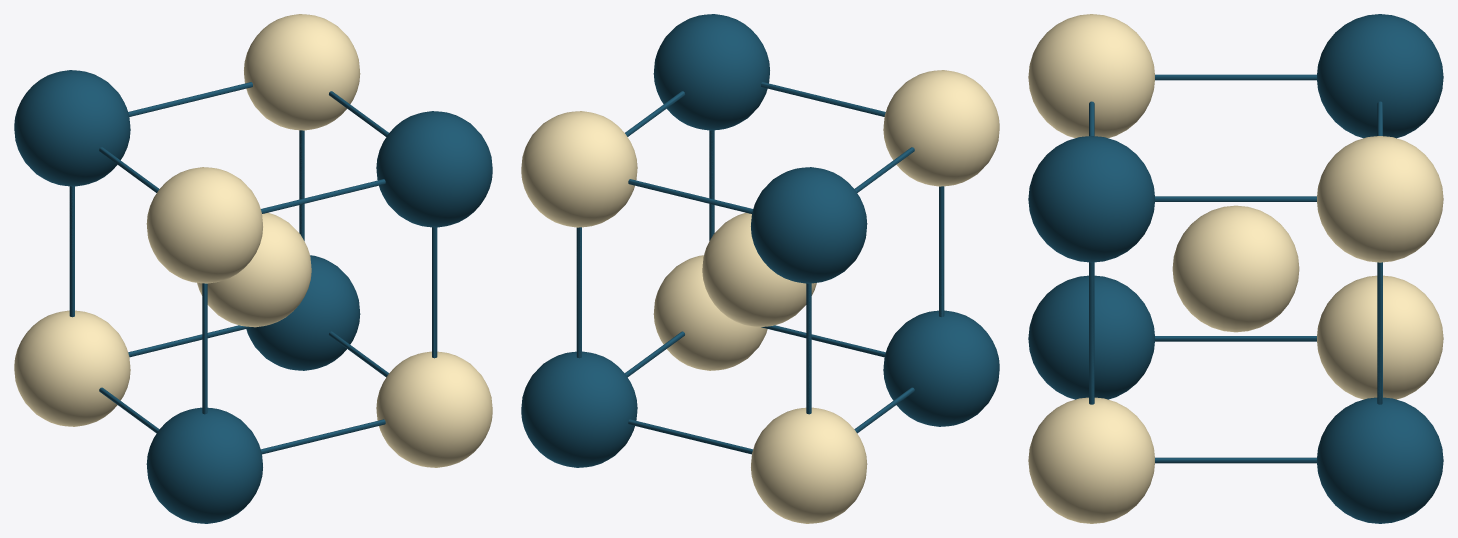
The model's file is jingbao2-B.gltf.
The picture shows the model from 3 angles, left to right: view 1: azimuth 30°, elevation 25°; view 2: azimuth 150°, elevation 25°; view 3: azimuth 270°, elevation 25°; orthographic projection. The views are drawn at different scales.
Parts seen in each view (by area): view 1: 2, 1; view 2: 1, 2; view 3: 2, 1.
Boxes of the visible parts, x1,y1,x2,y2 form: 2: [14, 14, 492, 467]; 1: [14, 70, 492, 523]; 1: [521, 14, 999, 467]; 2: [521, 70, 999, 523]; 2: [1028, 14, 1443, 523]; 1: [1028, 14, 1443, 523].
Bounding box in the file's own units: 72 × 72 × 72.
Materials: 2 (2 with a texture image).
